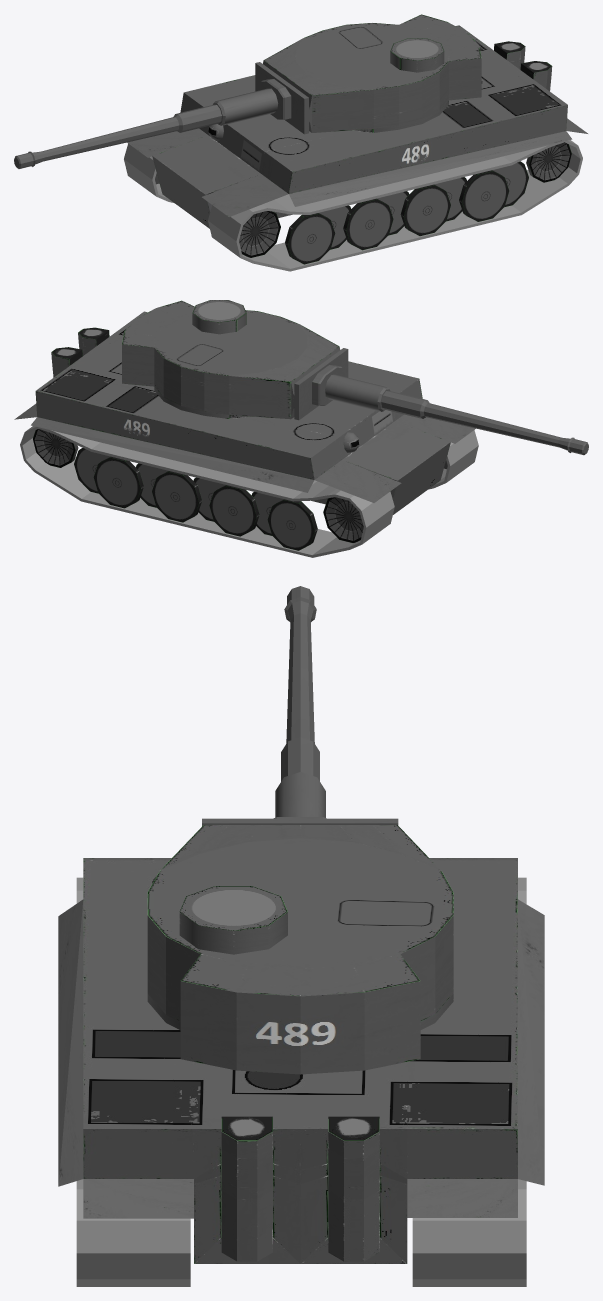
The model's file is pz stoit.FBX.
3 views of the same model, one above another, from view 1: azimuth 30°, elevation 25°; view 2: azimuth 150°, elevation 25°; view 3: azimuth 270°, elevation 25° (orthographic). The views are drawn at different scales.
Visible parts, largest first — view 1: Box001, Cylinder001, Line001, Box002, Cylinder002, Cylinder023, Cylinder025, Cylinder028, Cylinder010, Cylinder048, Line002, Cylinder026 (+3 smaller); view 2: Box001, Cylinder001, Line002, Box002, Cylinder038, Cylinder041, Cylinder043, Cylinder046, Cylinder049, Cylinder050, Line001, Cylinder044 (+3 smaller); view 3: Box001, Cylinder001, Box002, Line002, Line001.
Boxes of the visible parts, bbox=[...] form: Box001: bbox=[127, 25, 587, 228]; Cylinder001: bbox=[263, 14, 481, 132]; Line001: bbox=[208, 140, 582, 271]; Box002: bbox=[14, 62, 308, 168]; Cylinder002: bbox=[285, 213, 335, 264]; Cylinder023: bbox=[343, 198, 393, 250]; Cylinder025: bbox=[459, 170, 509, 221]; Cylinder028: bbox=[400, 184, 450, 236]; Cylinder010: bbox=[239, 211, 280, 257]; Cylinder048: bbox=[526, 142, 571, 182]; Line002: bbox=[124, 143, 174, 203]; Cylinder026: bbox=[492, 161, 528, 207]; Box001: bbox=[14, 311, 475, 514]; Cylinder001: bbox=[122, 300, 340, 419]; Line002: bbox=[20, 426, 394, 557]; Box002: bbox=[294, 348, 588, 455]; Cylinder038: bbox=[267, 499, 317, 550]; Cylinder041: bbox=[209, 485, 259, 536]; Cylinder043: bbox=[93, 456, 143, 508]; Cylinder046: bbox=[152, 471, 201, 522]; Cylinder049: bbox=[323, 497, 363, 542]; Cylinder050: bbox=[33, 429, 78, 467]; Line001: bbox=[428, 430, 478, 489]; Cylinder044: bbox=[74, 448, 110, 493]; Box001: bbox=[58, 858, 544, 1263]; Cylinder001: bbox=[147, 825, 453, 1074]; Box002: bbox=[202, 586, 398, 825]; Line002: bbox=[412, 877, 526, 1286]; Line001: bbox=[76, 877, 190, 1286].
Size of the model in its own units: 205 by 57.67 by 83.14.
